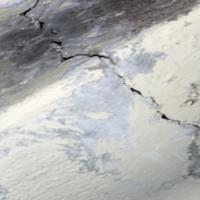crack: (11, 1, 200, 175)
